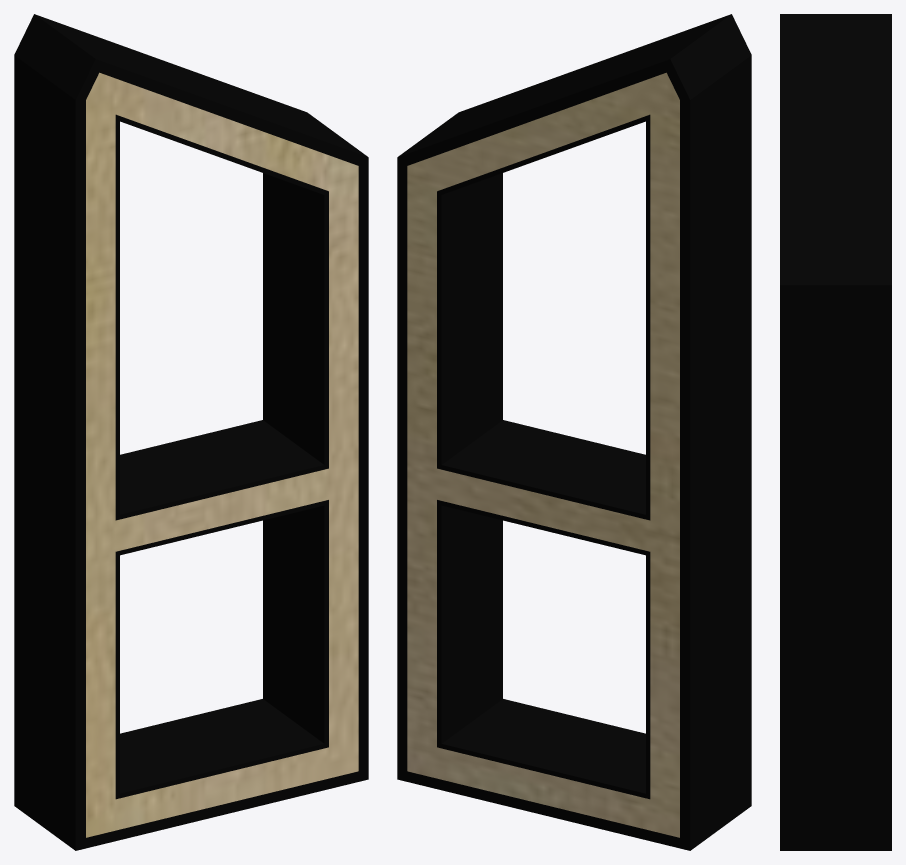
3 views of the same model, side by side, from view 1: azimuth 30°, elevation 25°; view 2: azimuth 150°, elevation 25°; view 3: azimuth 270°, elevation 25° (orthographic). The views are drawn at different scales.
Visible parts, largest first — view 1: B-5; view 2: B-5; view 3: B-5.
Boxes of the visible parts, x1=… form: B-5: x1=14, y1=14, x2=368, y2=850; B-5: x1=397, y1=14, x2=751, y2=850; B-5: x1=780, y1=14, x2=891, y2=850.
Bounding box in the file's own units: 3.3 × 8.47 × 1.2.
2 materials, 1 textured.
